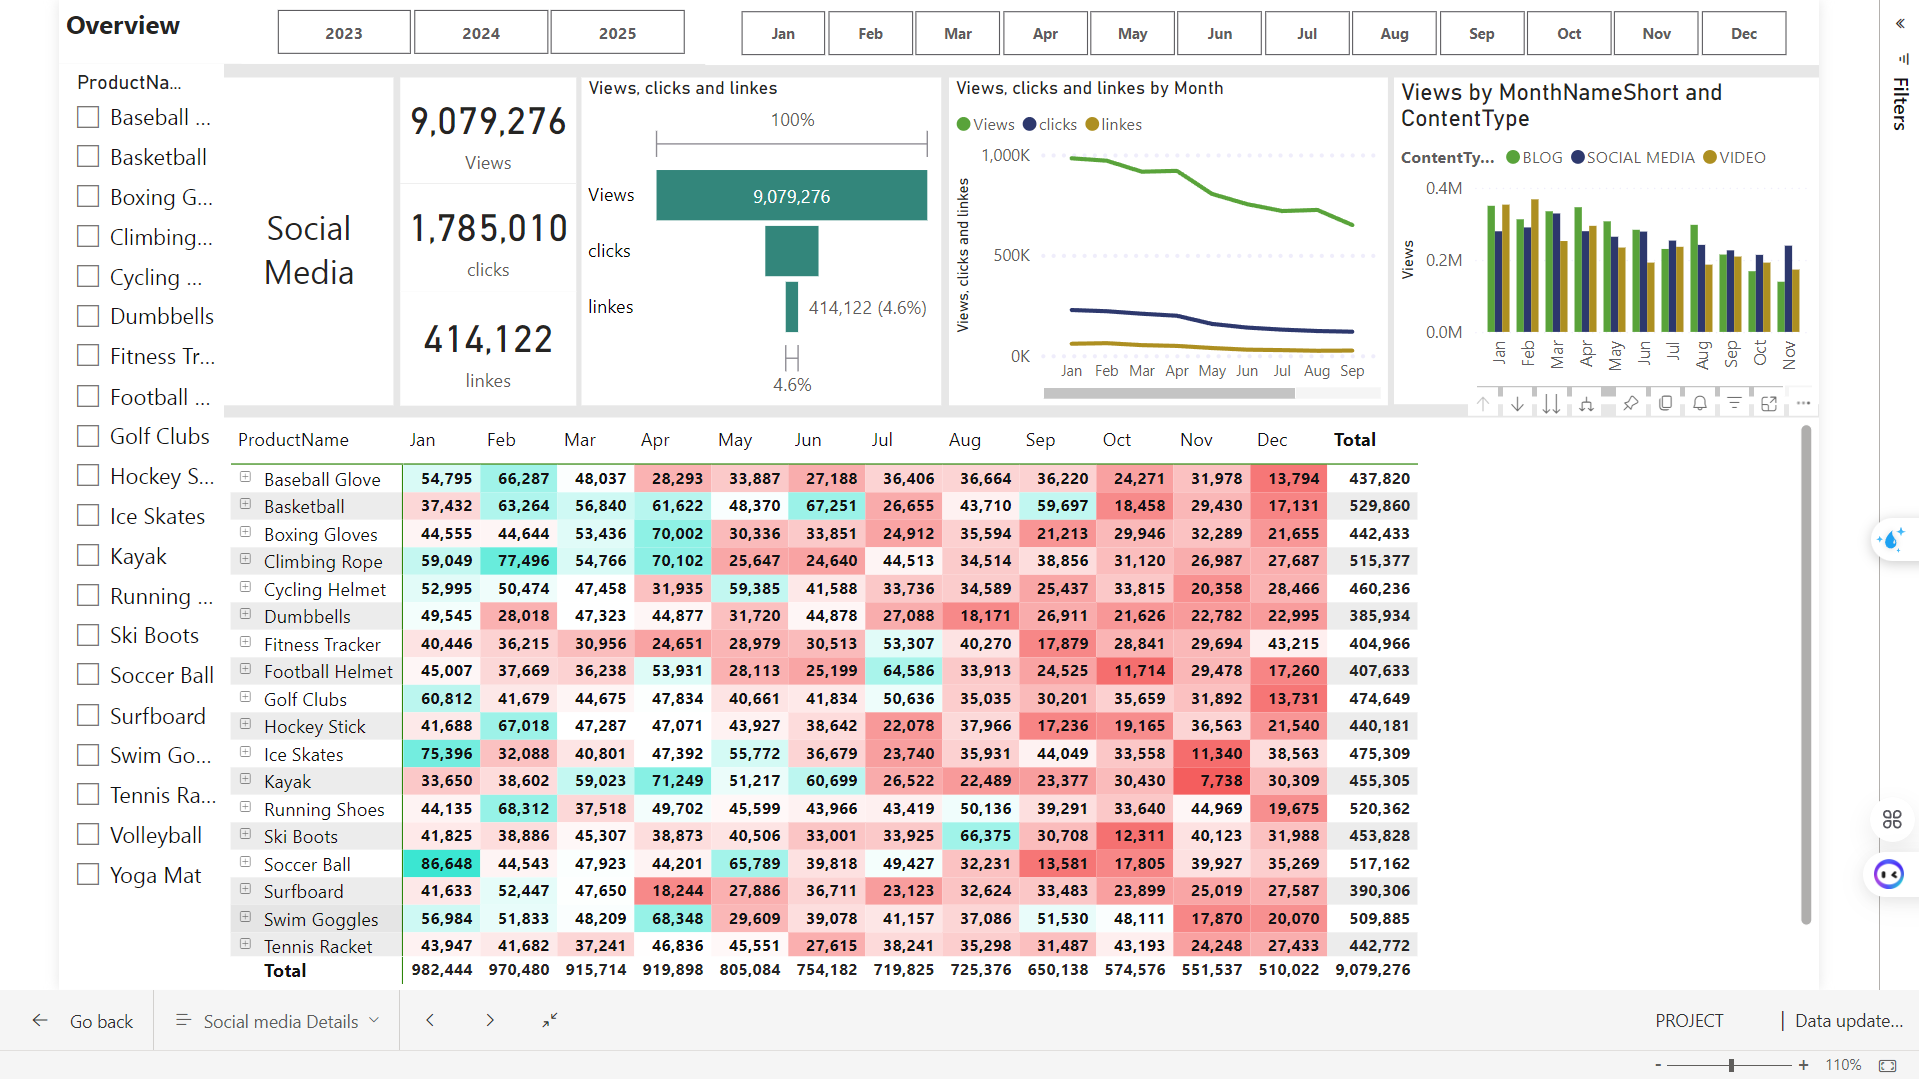

Layout of this report page (visuals, bound fields, positions):
{"tool":"powerbi","page":{"name":"Social media Details","canvas":[1280,720],"ordinal":2},"visuals":[{"type":"textbox","box":[0,0,1280.3,46.5],"z":0},{"type":"slicer","fields":{"Values":["dim_product.ProductName"]},"box":[0,46.5,119.8,673.8],"z":1000},{"type":"textbox","box":[119.8,56.3,123.5,238.5],"z":2000},{"type":"slicer","fields":{"Values":["Calender.Year"]},"box":[132.8,0,346.6,46.5],"z":3000},{"type":"slicer","fields":{"Values":["Calender.MonthNameShort"]},"box":[470.1,1.3,810.1,46.5],"z":4000},{"type":"card","fields":{"Values":["Calculations.Views"]},"box":[248.6,56.3,128.4,77],"z":4000,"group":"g1"},{"type":"funnel","fields":{"Y":["Calculations.Views","Calculations.clicks","Calculations.linkes"]},"box":[380.3,56.3,261.7,238.5],"z":5000},{"type":"card","fields":{"Values":["Calculations.linkes"]},"box":[248.6,211.6,128.4,83.2],"z":5000,"group":"g1"},{"type":"lineChart","title":"Views, clicks and linkes by Month","fields":{"Y":["Calculations.Views","Calculations.clicks","Calculations.linkes"],"Category":["Calender.MonthNameShort"]},"box":[646.9,56.3,319.2,238.5],"z":6000},{"type":"card","fields":{"Values":["Calculations.clicks"]},"box":[248.6,133.3,128.4,78.3],"z":6000,"group":"g1"},{"type":"group","id":"g1","title":"Group 1","box":[248.6,56.3,128.4,238.5],"z":7000},{"type":"clusteredColumnChart","fields":{"Category":["Calender.MonthNameShort"],"Y":["Calculations.Views"],"Series":["fact_engagement_data.ContentType"]},"box":[970.9,56.3,309.4,237.2],"z":8000},{"type":"pivotTable","fields":{"Values":["Calculations.Views"],"Columns":["Calender.MonthNameShort"],"Rows":["dim_product.ProductName","fact_engagement_data.ContentType"]},"box":[119.8,303.3,1160.5,417],"z":9000}]}

Visuals, with their boxes on the page's 1280x720 design canvas (x1, y1, x2, y2). These are canvas units, not pixel positions in the 1919x1079 screenshot, which may show the page scaled, cropped or inside an application window:
textbox: 0 0 1280 46
slicer - dim_product.ProductName: 0 46 120 720
textbox: 120 56 243 295
slicer - Calender.Year: 133 0 479 46
slicer - Calender.MonthNameShort: 470 1 1280 48
card - Calculations.Views: 249 56 377 133
funnel - Calculations.Views x Calculations.clicks: 380 56 642 295
card - Calculations.linkes: 249 212 377 295
"Views, clicks and linkes by Month" lineChart: 647 56 966 295
card - Calculations.clicks: 249 133 377 212
"Group 1" group: 249 56 377 295
clusteredColumnChart - Calender.MonthNameShort x Calculations.Views: 971 56 1280 294
pivotTable - Calculations.Views x Calender.MonthNameShort: 120 303 1280 720
